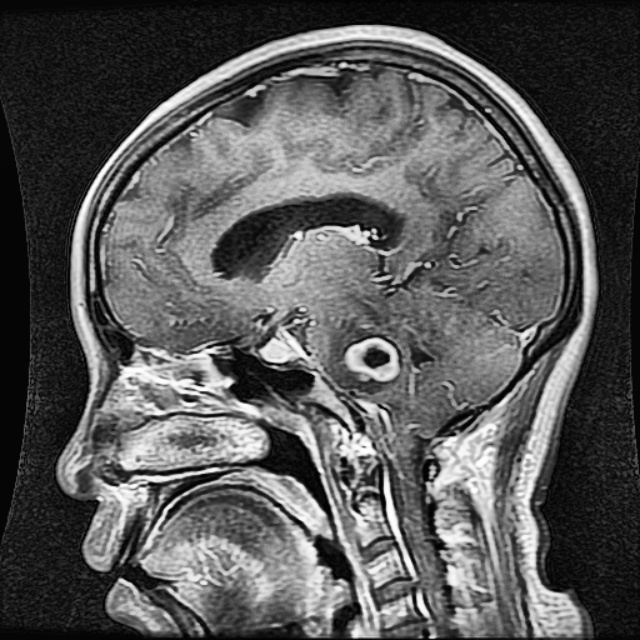Meningioma: (343, 335, 402, 382)
